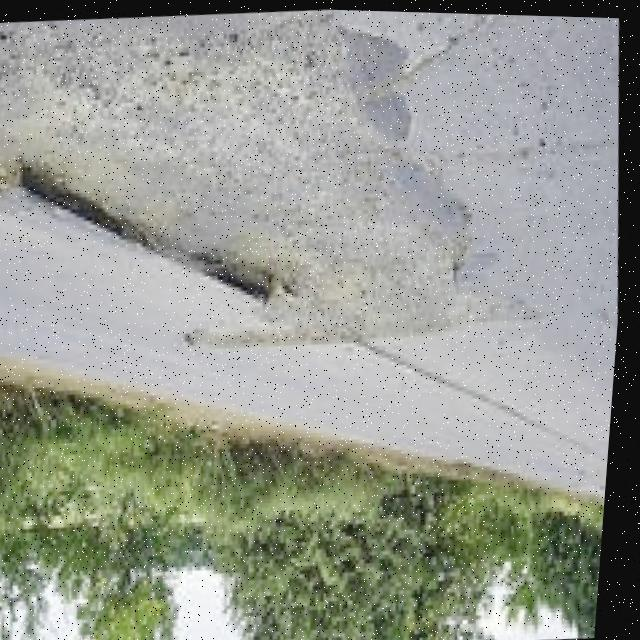Pothole: (0, 2, 560, 373)
